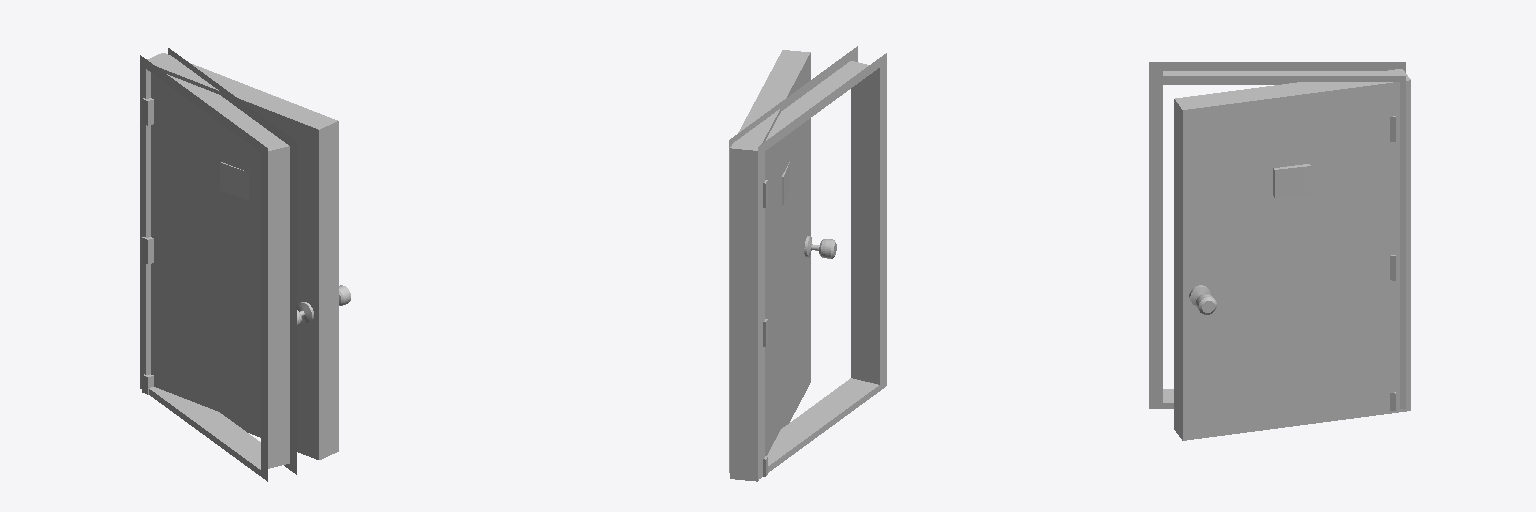
File: Door_0_Open8.obj
3 renders of one model, left to right at view 1: azimuth 30°, elevation 25°; view 2: azimuth 150°, elevation 25°; view 3: azimuth 270°, elevation 25°, orthographic.
Parts seen in each view (by area): view 1: Door.001, Frame_Door.001; view 2: Door.001, Frame_Door.001; view 3: Door.001, Frame_Door.001.
Boxes of the visible parts, box(x1,y1,x2,y2) form: Door.001: box(147, 53, 350, 459); Frame_Door.001: box(140, 48, 296, 481); Door.001: box(730, 50, 836, 481); Frame_Door.001: box(729, 46, 886, 479); Door.001: box(1174, 69, 1410, 440); Frame_Door.001: box(1149, 62, 1405, 410).
Size of the model in its own units: 0.4207 by 1.21 by 0.8561.